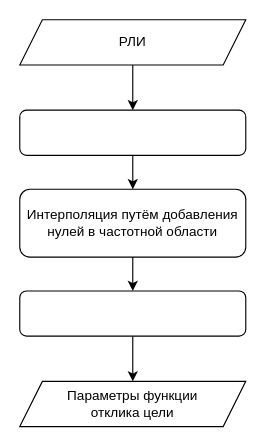
This 266x446 diagram has some shape labels left out. Here are the shapes that lost their labels. From the top down, the centre of each, then its label:
At point 132,132: "Выделение портрета отклика выбранной цели".
At point 132,313: "Сечение портрета по азимуту и дальности".
